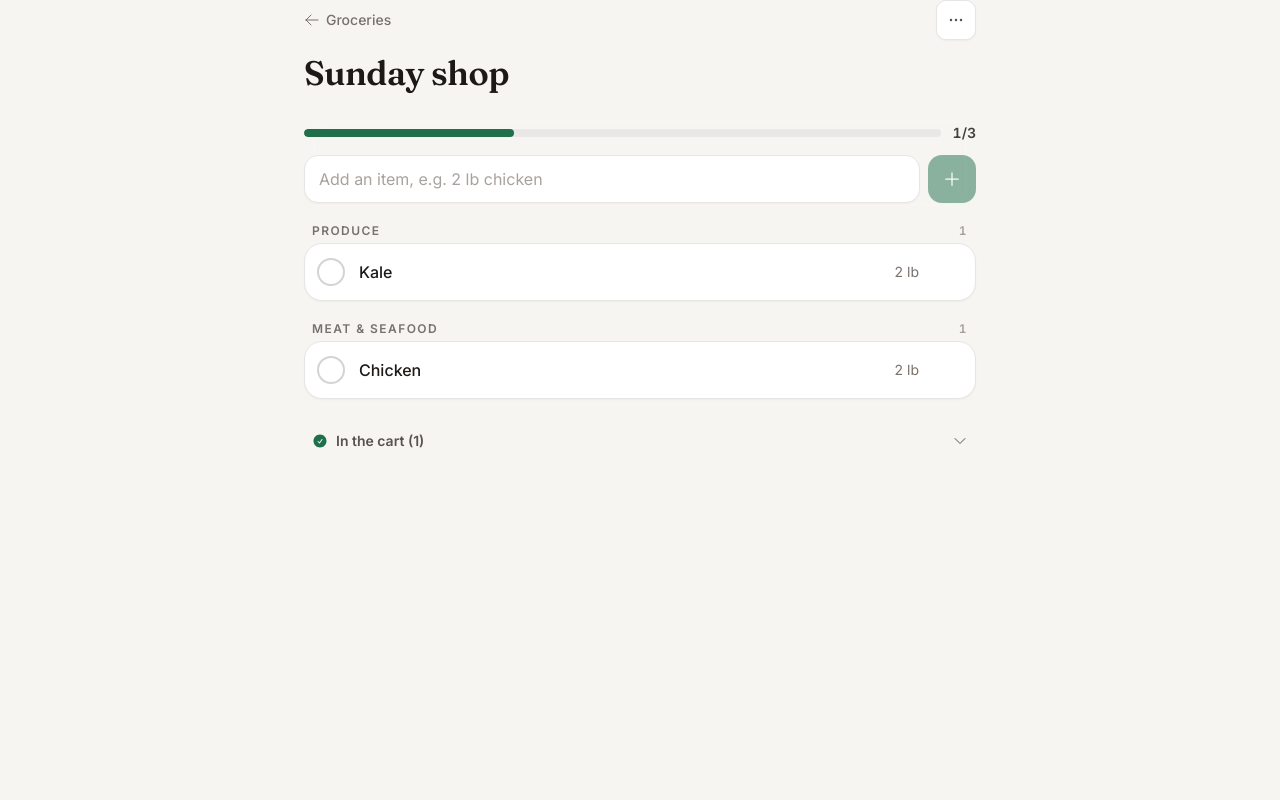
Test case: GroceryListDetailPage › emails the list to extra people from the overflow menu
Click the button named "List actions": (956, 20) [936,0,976,40]
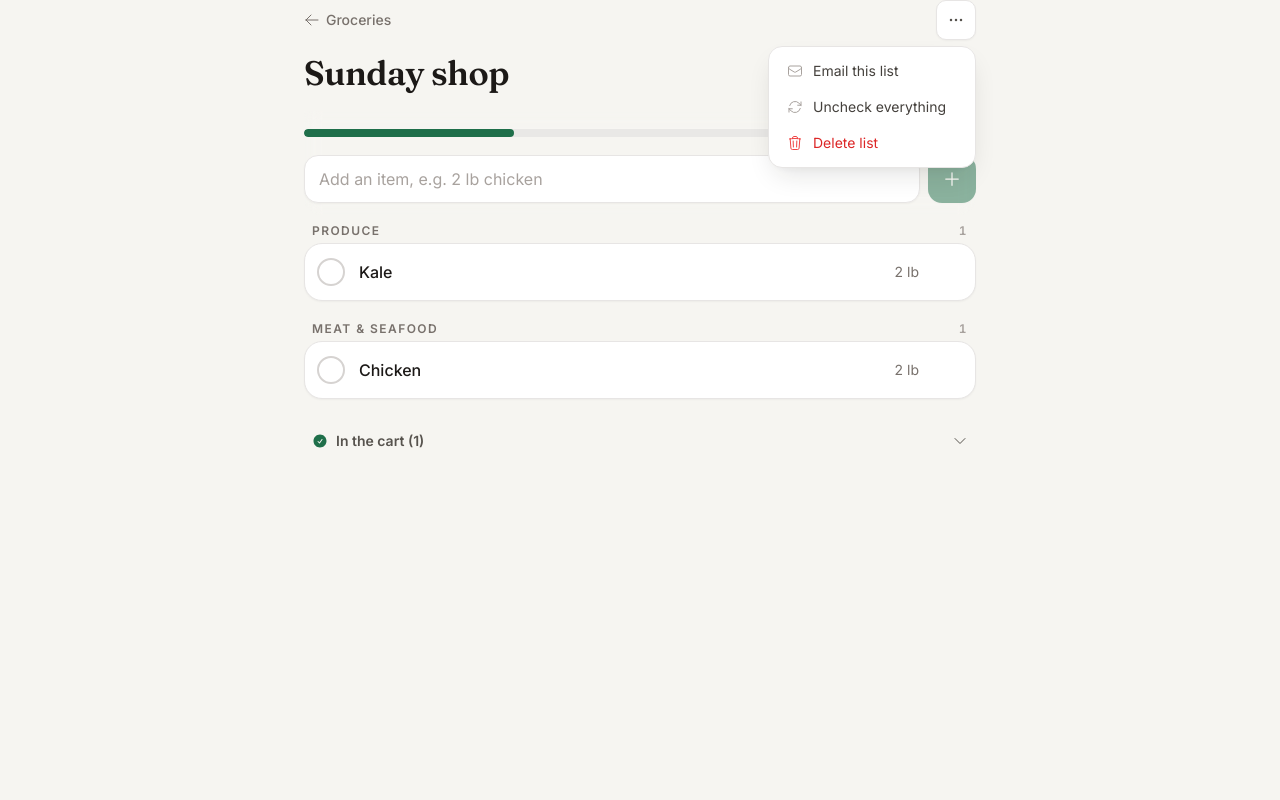
Click the menu item "Email this list": (872, 71) [775,53,969,89]
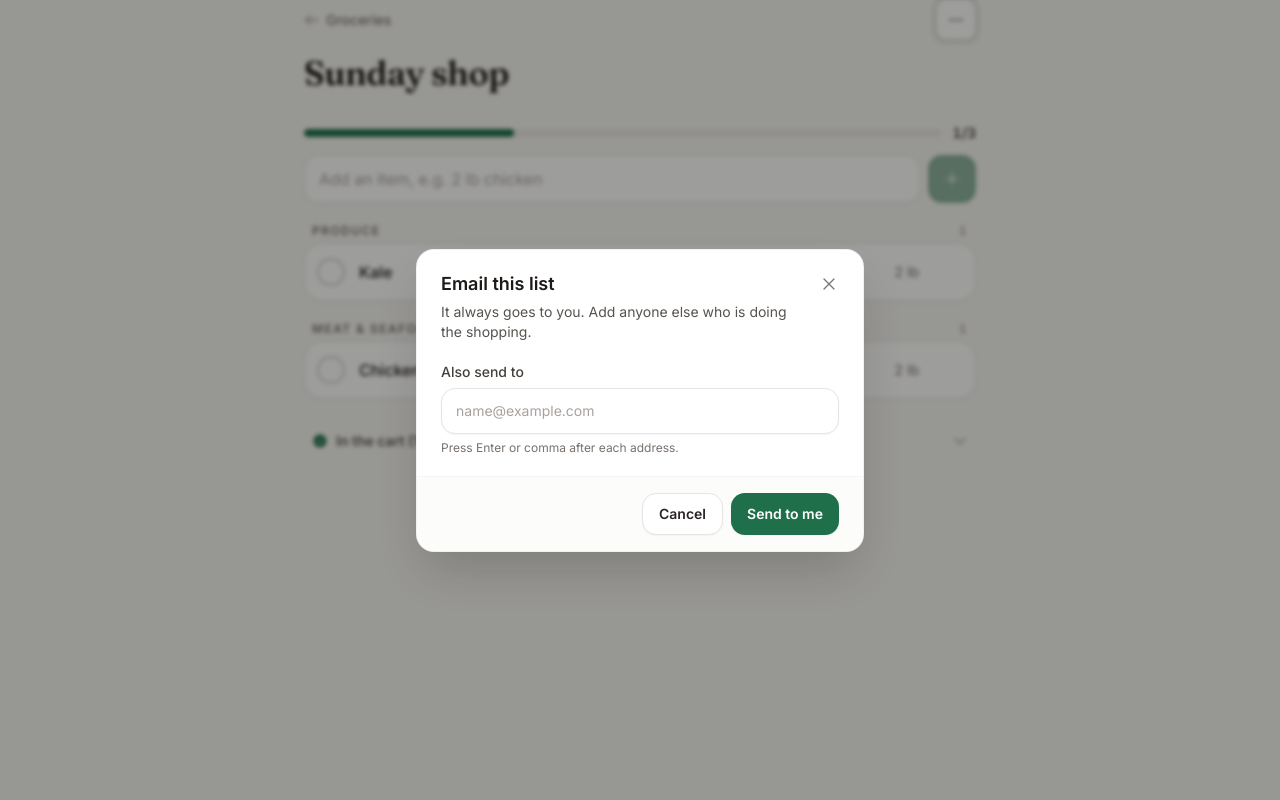
In the field labelled "Also send to": (640, 410) [450,396,830,424], type "bad"
Then press Enter
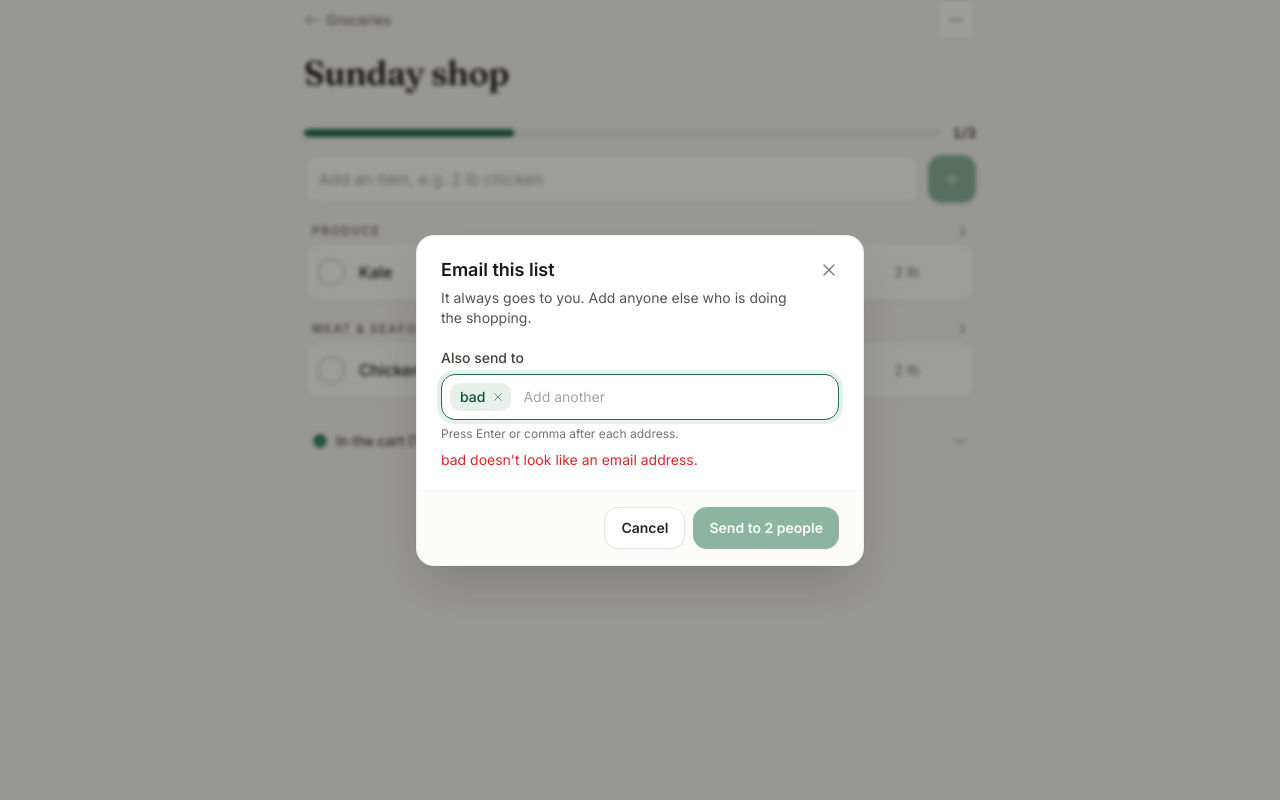
Result: the message "bad doesn't look like an email address." is shown at [441,450,698,468]
Click the button named "Remove bad": (498, 396) [489,388,507,406]
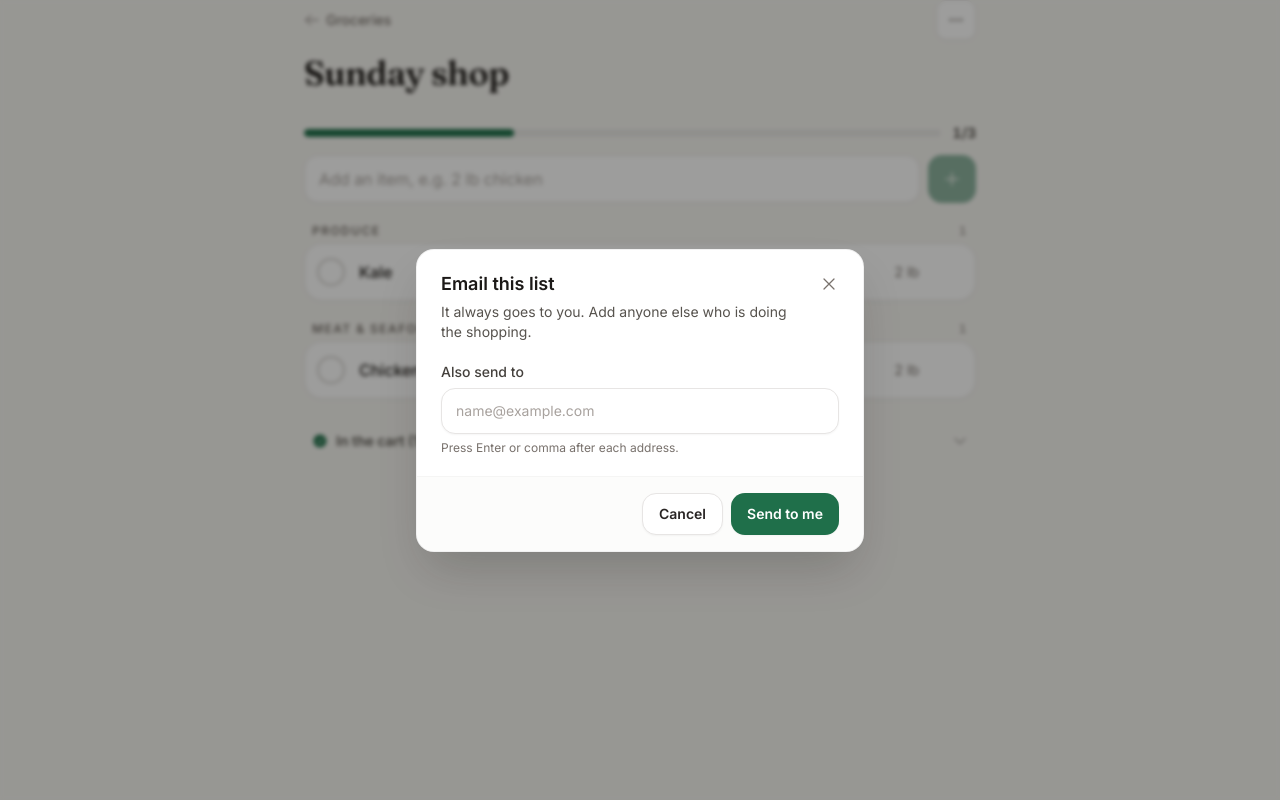
In the field labelled "Also send to": (640, 410) [450,396,830,424], type "sam@x.com"
Then press Enter
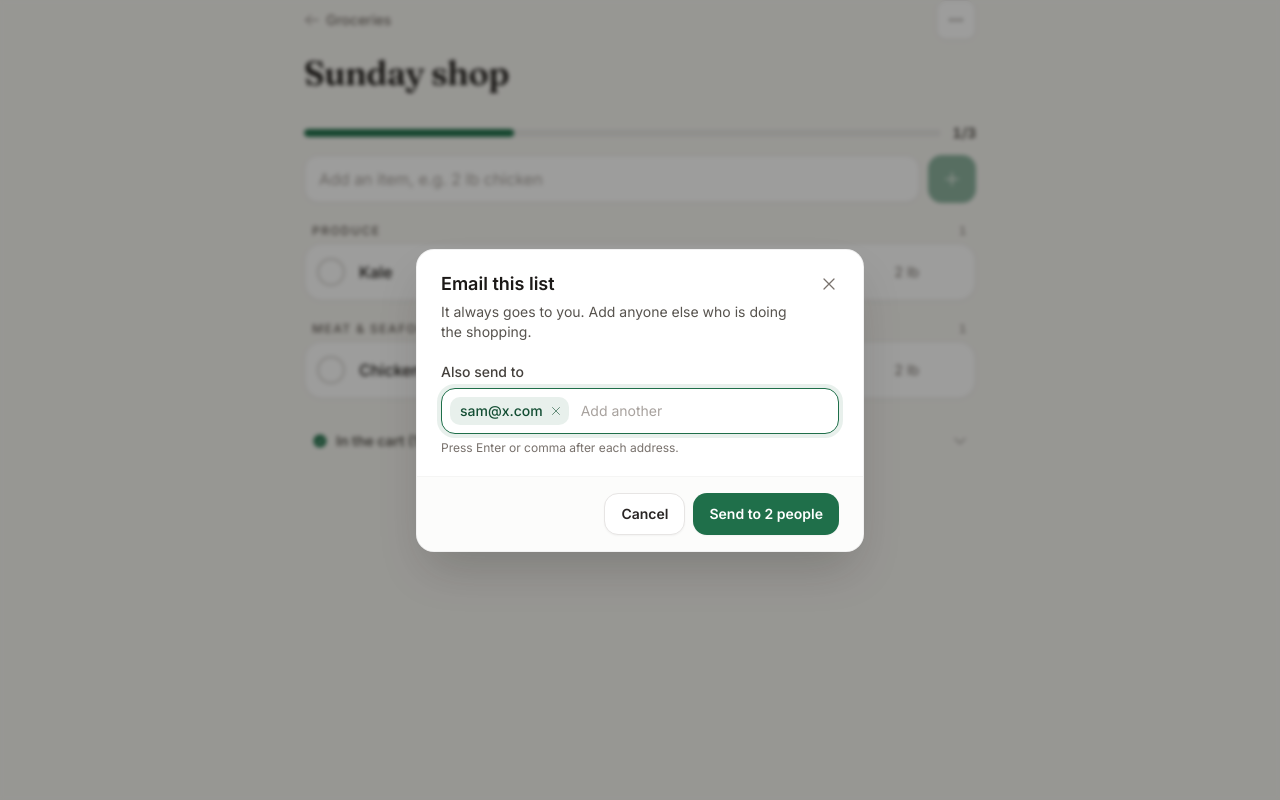
Click the button "Send to 2 people": (766, 514) [694,492,839,534]
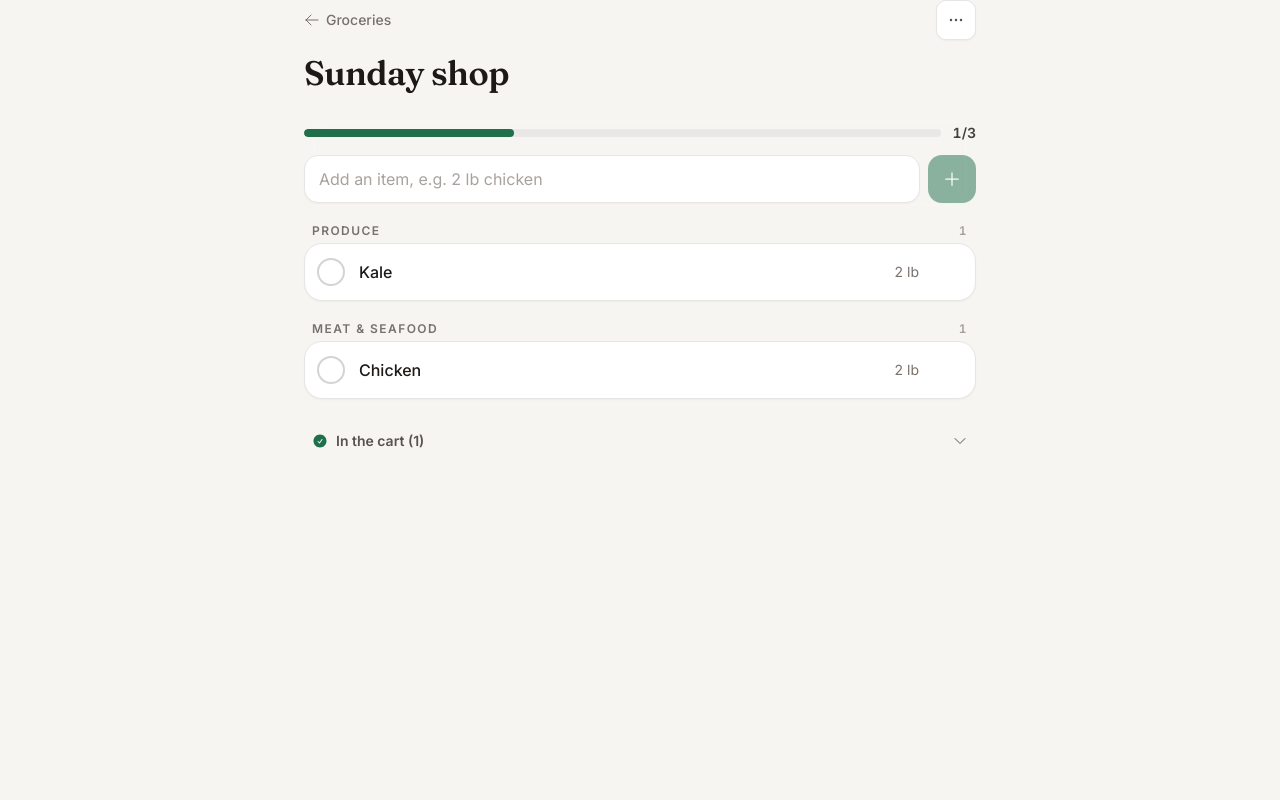
Result: the dialog is gone
